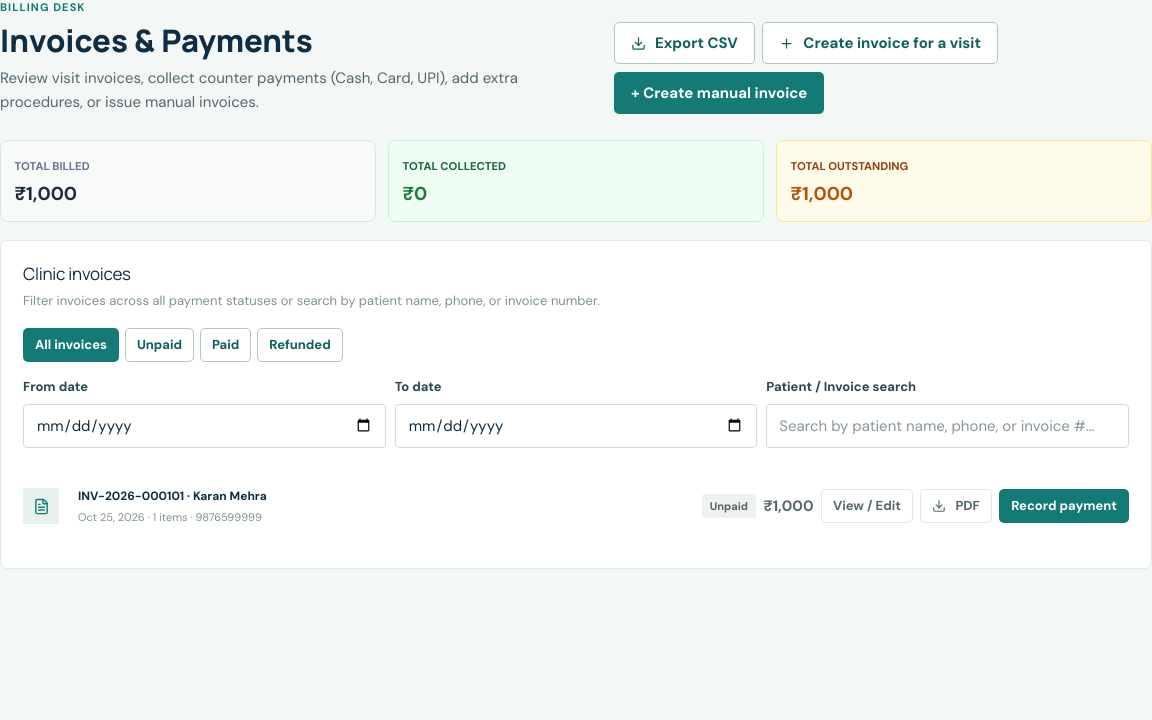
Test: Patient, Admin and Staff Views › Reception Invoices page › renders multi-filter bar and allows viewing invoice detail and collecting counter payment
Expected: the text "INV-2026-000101 · Karan Mehra" is shown, [78,488,267,504]
# Open View / Edit modal
Click the button "View / Edit" at (867, 506), box [821,489,913,523]
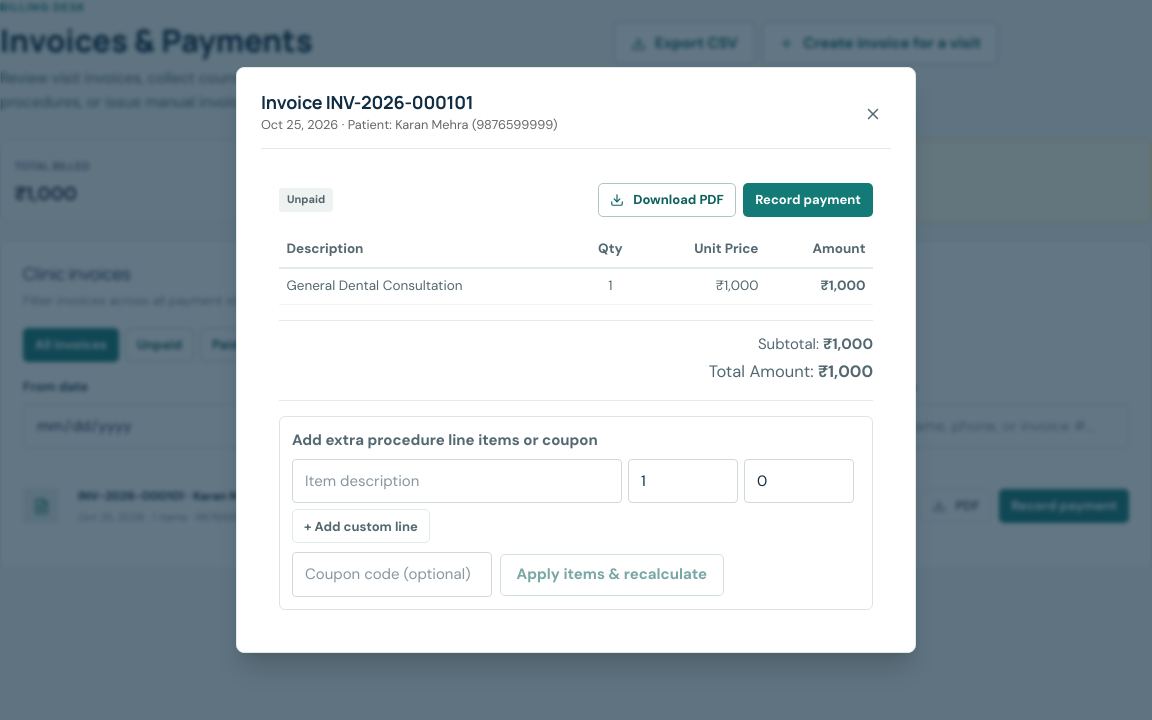
Expected: the text "Add extra procedure line items or coupon" is shown, [292,430,598,450]
Expected: the button "Download PDF" is shown, [598,183,736,217]
